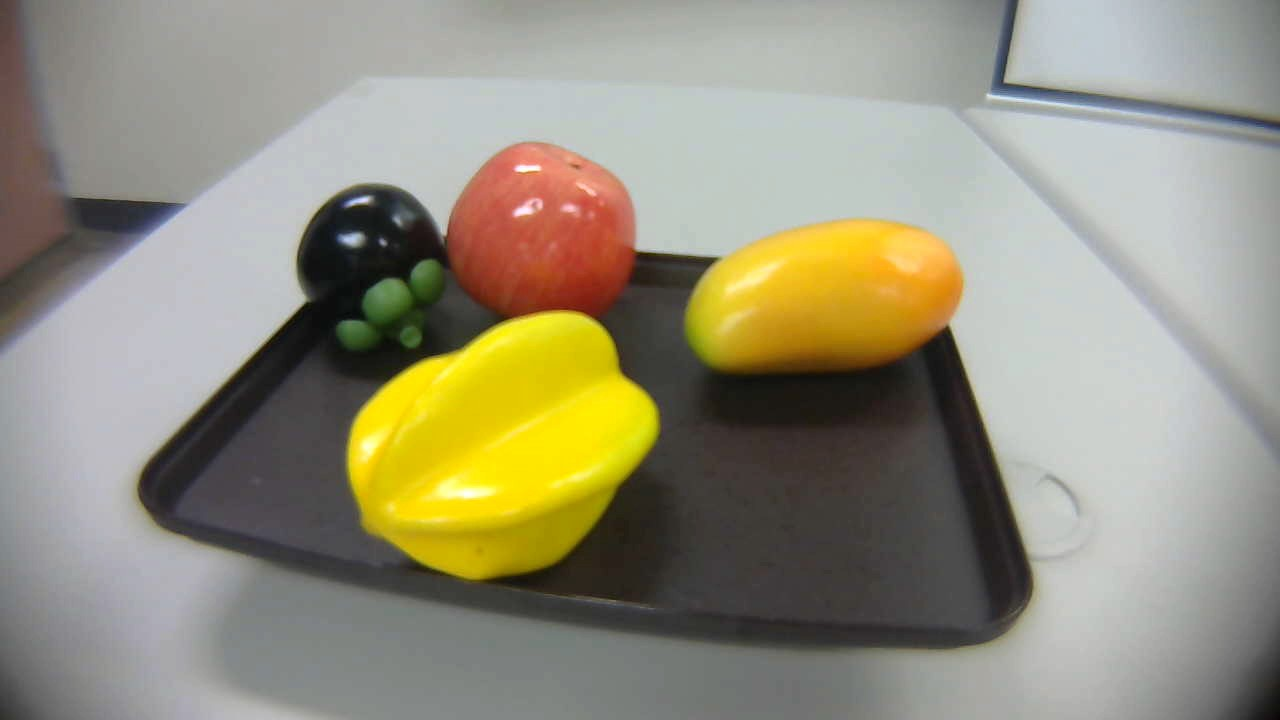mangosteen: (290, 183, 453, 376)
red apple: (447, 143, 640, 329)
star fruit: (346, 305, 666, 583)
yellow mango: (687, 206, 967, 418)
